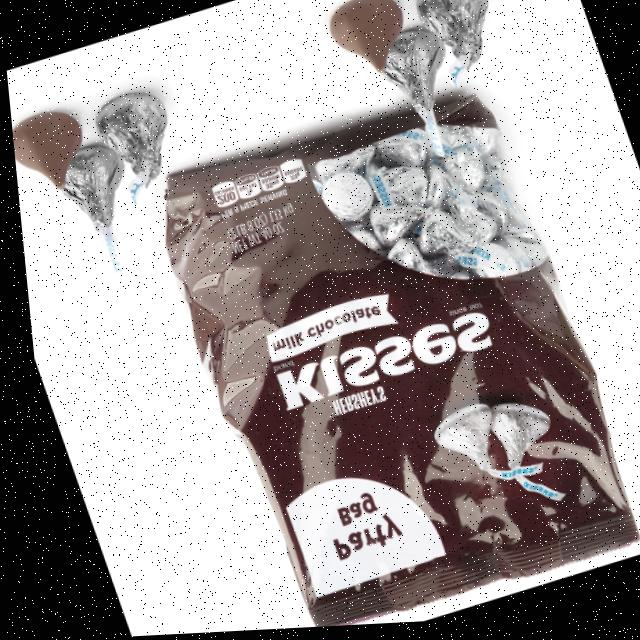kisses: (414, 380, 578, 543), (81, 63, 200, 226), (402, 0, 528, 105), (44, 140, 139, 248), (315, 0, 426, 86), (366, 22, 458, 125), (360, 188, 435, 253), (405, 209, 477, 265), (471, 541, 474, 545)
